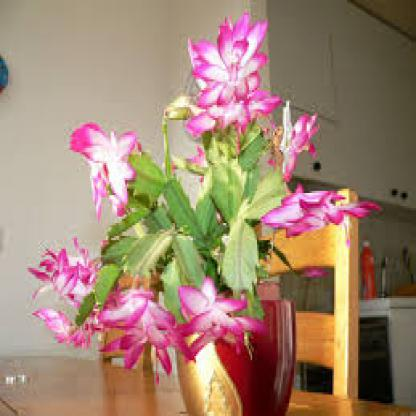Holiday Cactus: (23, 20, 393, 370)
